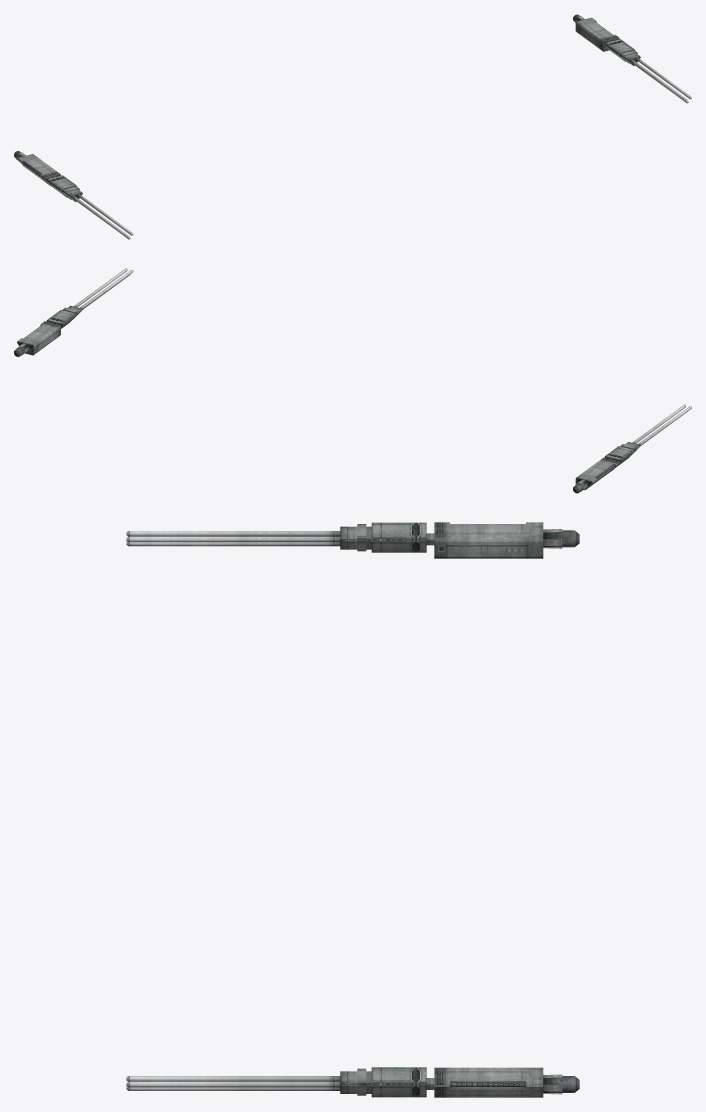
Rendered from hutt_fighter_heavy_weapon2_s04_l0.fbx.
3 renders of one model, top to bottom at view 1: azimuth 30°, elevation 25°; view 2: azimuth 150°, elevation 25°; view 3: azimuth 270°, elevation 25°, orthographic. The views are drawn at different scales.
Parts seen in each view (by area): view 1: mesh_node; view 2: mesh_node; view 3: mesh_node.
Part boxes in pixels (x1,y1,x2,y2): mesh_node: (14,14,691,239); mesh_node: (14,268,691,493); mesh_node: (126,522,579,1097).
Bounding box in the file's own units: 26.83 × 0.4731 × 9.14.
